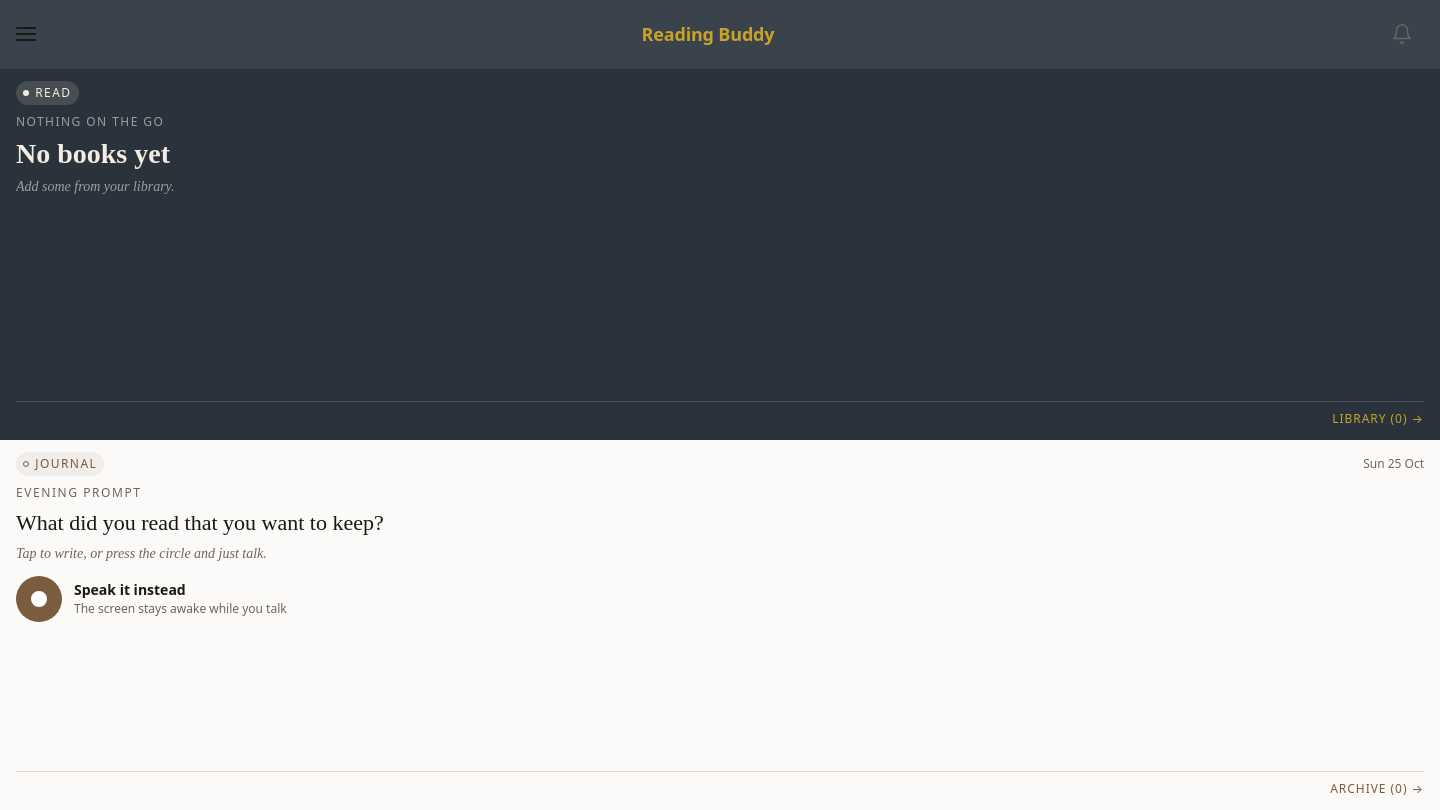
app shell › closes the drawer on Escape
Step 1. Click the button named "Open menu" → point(26, 34), box [16,27,36,41]
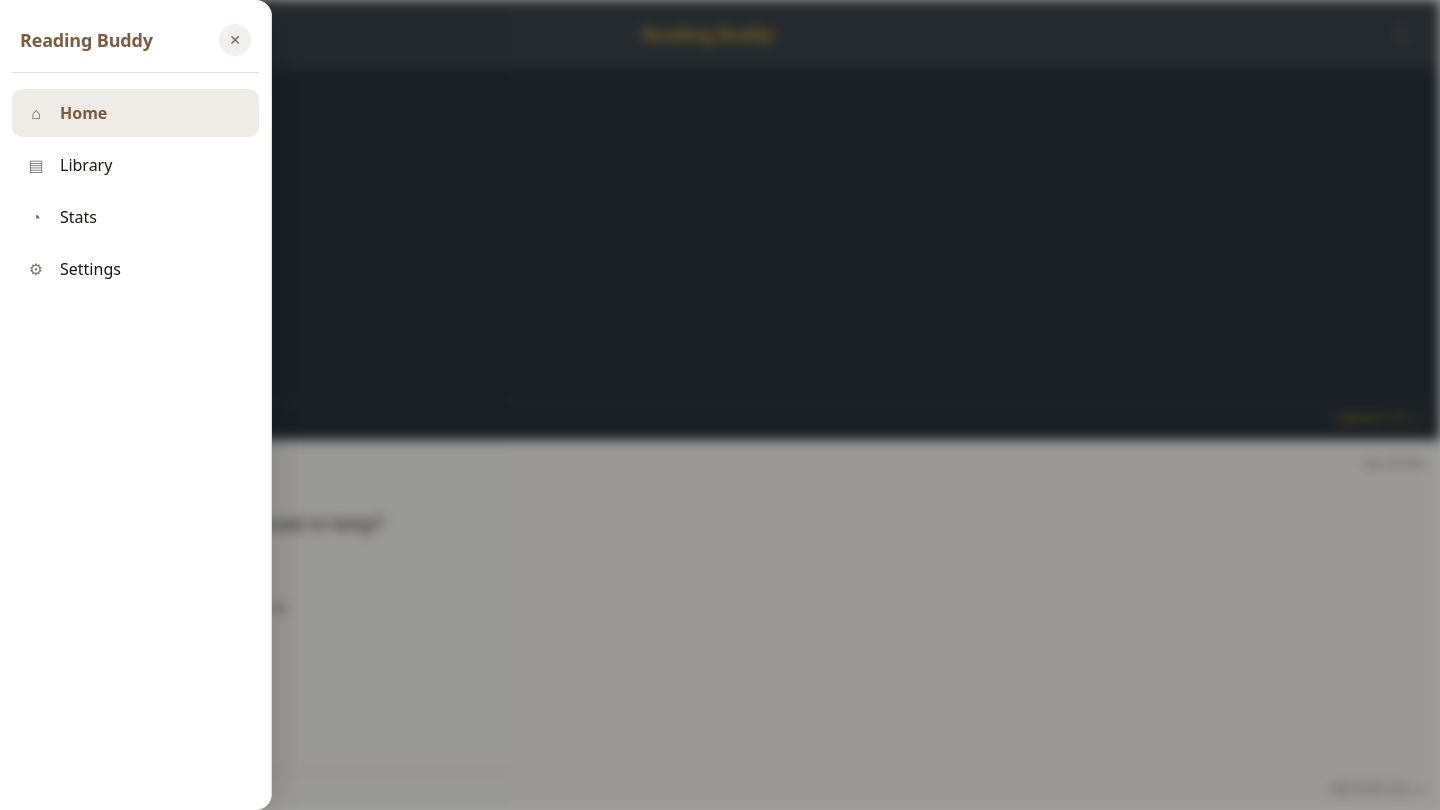
Step 2. Press Escape
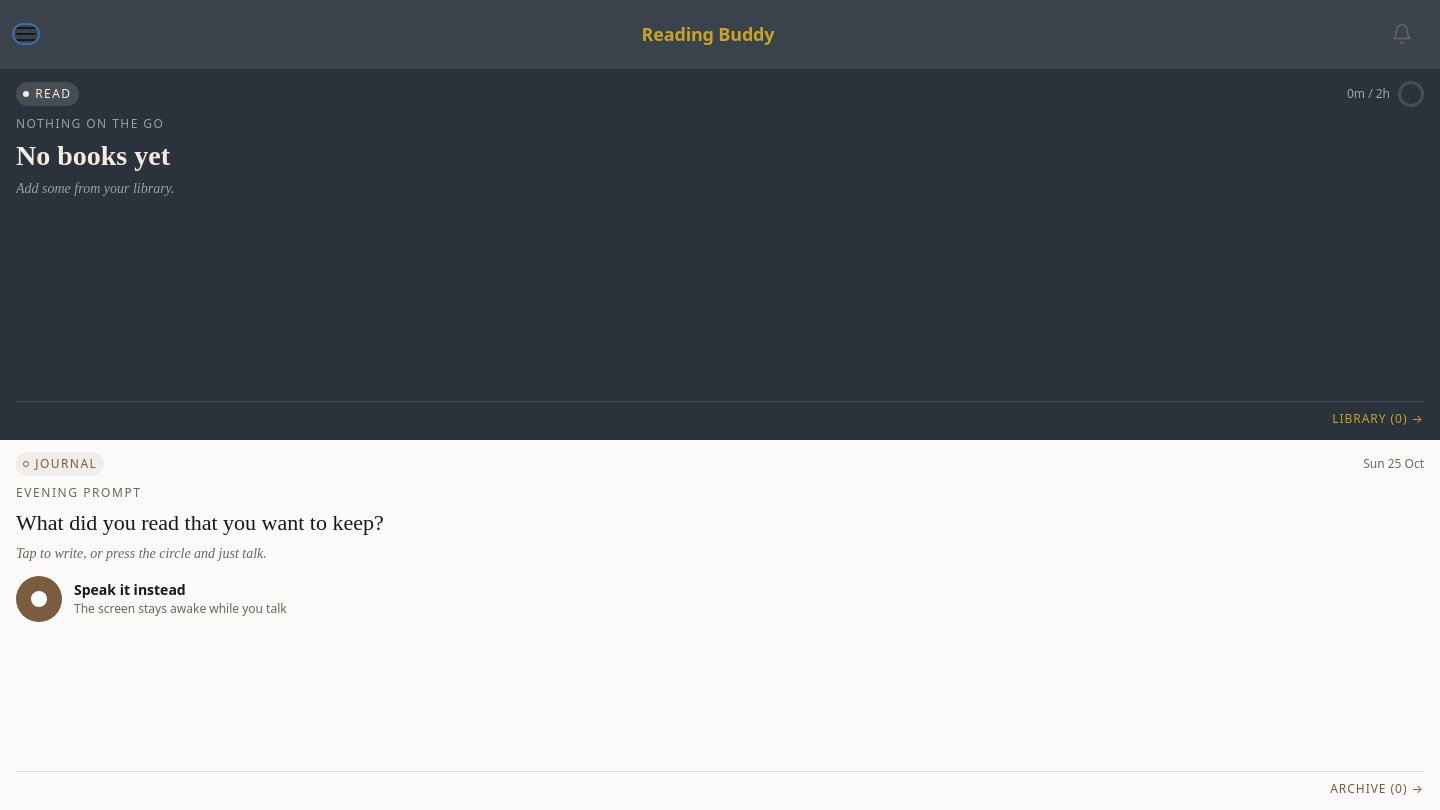
Now the button named "Open menu" is collapsed, box [16,27,36,41]
